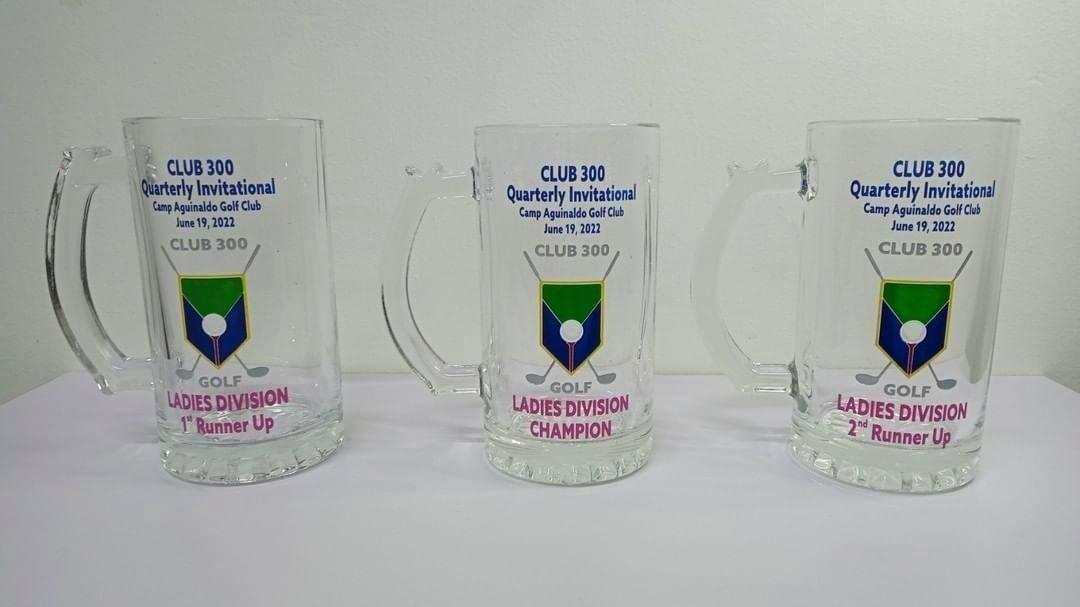glass-mug: (688, 110, 1030, 499), (37, 107, 357, 488), (377, 118, 673, 495)
